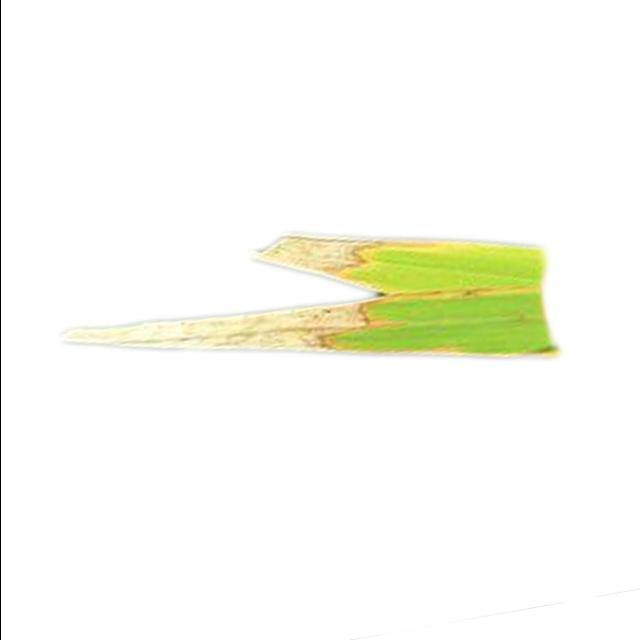Leaf scald: (1, 167, 584, 484)
